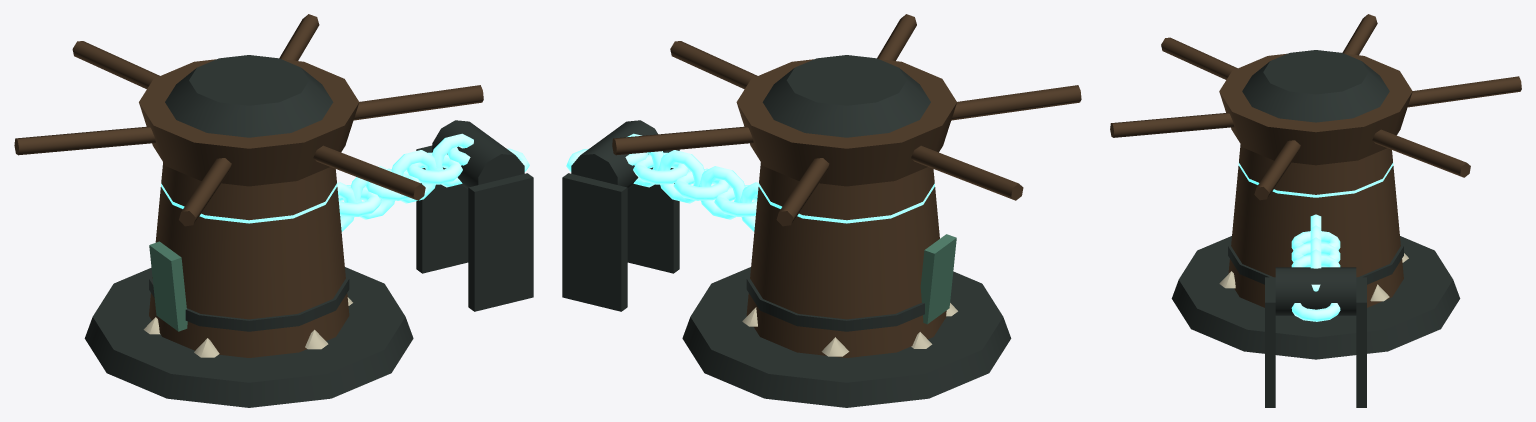
Rendered from mount-capstan.glb.
The picture shows the model from 3 angles, left to right: view 1: azimuth 30°, elevation 25°; view 2: azimuth 150°, elevation 25°; view 3: azimuth 270°, elevation 25°; orthographic projection. The views are drawn at different scales.
Parts seen in each view (by area): view 1: Mesh_Drum, Mesh_Plate, Mesh_Head, Mesh_Cap, Mesh_CheekS, Mesh_CheekP, Mesh_Roller, Mesh_Weed, Mesh_Bar3, Mesh_Bar0, Mesh_BandLow, Mesh_Bar1 (+10 smaller); view 2: Mesh_Drum, Mesh_Plate, Mesh_Head, Mesh_Cap, Mesh_CheekP, Mesh_CheekS, Mesh_Roller, Mesh_Bar5, Mesh_BandLow, Mesh_Weed, Mesh_Bar2, Mesh_Bar3 (+9 smaller); view 3: Mesh_Drum, Mesh_Plate, Mesh_Head, Mesh_Cap, Mesh_Roller, Mesh_Bar1, Mesh_Bar4, Mesh_Bar5, Mesh_CheekP, Mesh_CheekS, Mesh_Bar2, Mesh_Bar0 (+7 smaller).
Boxes of the visible parts, bbox=[...] form: Mesh_Drum: bbox=[149, 162, 349, 357]; Mesh_Plate: bbox=[84, 267, 413, 407]; Mesh_Head: bbox=[139, 59, 359, 186]; Mesh_Cap: bbox=[165, 55, 333, 137]; Mesh_CheekS: bbox=[468, 173, 533, 311]; Mesh_CheekP: bbox=[416, 145, 468, 273]; Mesh_Roller: bbox=[432, 120, 524, 189]; Mesh_Weed: bbox=[149, 241, 187, 331]; Mesh_Bar3: bbox=[14, 126, 155, 155]; Mesh_Bar0: bbox=[353, 85, 483, 120]; Mesh_BandLow: bbox=[149, 272, 349, 331]; Mesh_Bar1: bbox=[313, 145, 425, 200]; Mesh_Drum: bbox=[746, 162, 946, 357]; Mesh_Plate: bbox=[682, 267, 1011, 407]; Mesh_Head: bbox=[736, 59, 956, 186]; Mesh_Cap: bbox=[762, 55, 930, 137]; Mesh_CheekP: bbox=[562, 173, 627, 311]; Mesh_CheekS: bbox=[627, 149, 679, 273]; Mesh_Roller: bbox=[571, 120, 663, 189]; Mesh_Bar5: bbox=[612, 126, 753, 155]; Mesh_BandLow: bbox=[746, 272, 924, 331]; Mesh_Weed: bbox=[920, 234, 956, 324]; Mesh_Bar2: bbox=[951, 85, 1081, 120]; Mesh_Bar3: bbox=[911, 145, 1023, 200]; Mesh_Drum: bbox=[1228, 144, 1403, 307]; Mesh_Plate: bbox=[1171, 236, 1460, 359]; Mesh_Head: bbox=[1219, 53, 1412, 165]; Mesh_Cap: bbox=[1242, 50, 1389, 122]; Mesh_Roller: bbox=[1275, 267, 1356, 315]; Mesh_Bar1: bbox=[1110, 112, 1234, 137]; Mesh_Bar4: bbox=[1408, 76, 1521, 107]; Mesh_Bar5: bbox=[1372, 129, 1470, 177]; Mesh_CheekP: bbox=[1356, 277, 1366, 407]; Mesh_CheekS: bbox=[1265, 277, 1275, 407]; Mesh_Bar2: bbox=[1161, 37, 1237, 79]; Mesh_Bar0: bbox=[1254, 140, 1300, 200].
Size of the model in its own units: 2.77 by 1.42 by 2.34.
